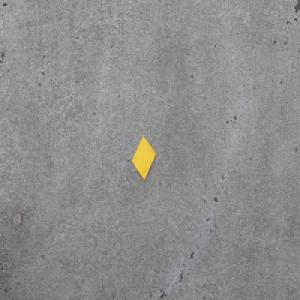PlasticPart: (131, 134, 156, 180)
